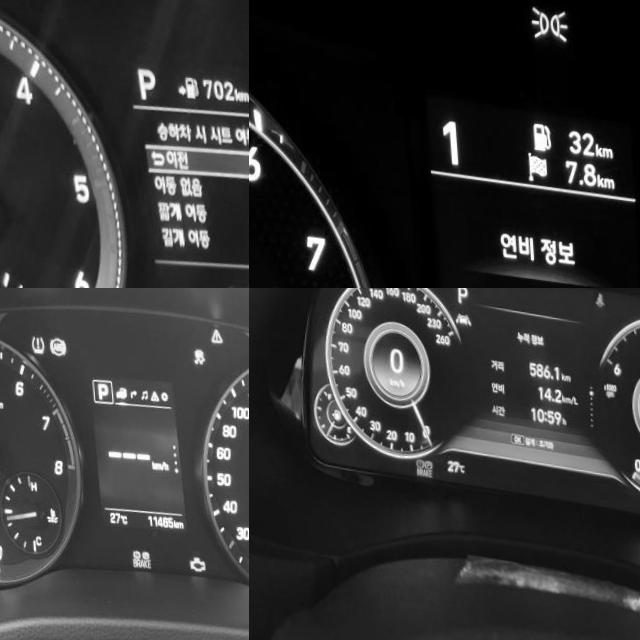Central Warning lamp: (206, 315, 219, 332)
LaneCenteringOff: (450, 304, 467, 318)
SideLamp: (529, 0, 568, 34)
